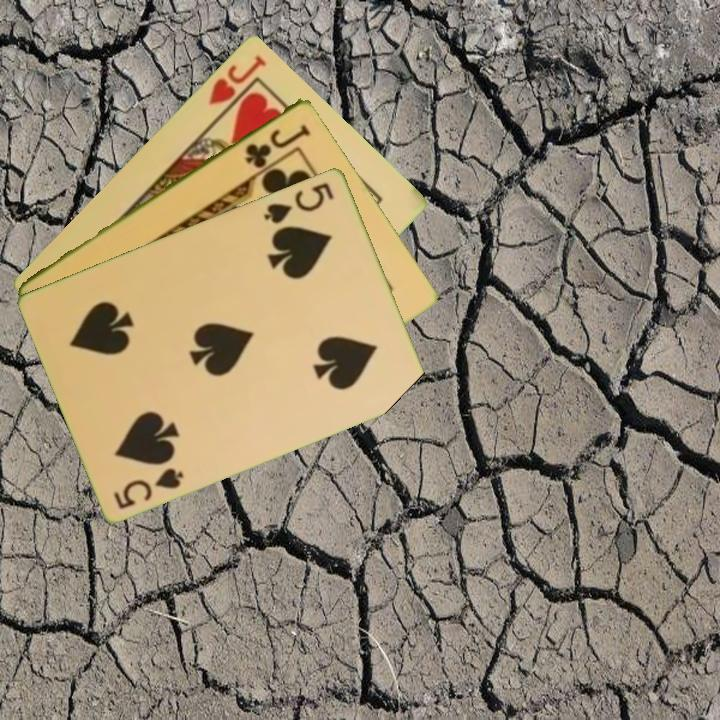5s: (110, 463, 187, 512), (260, 178, 337, 226)
Jc: (241, 120, 313, 171)
Jh: (205, 51, 270, 123)
